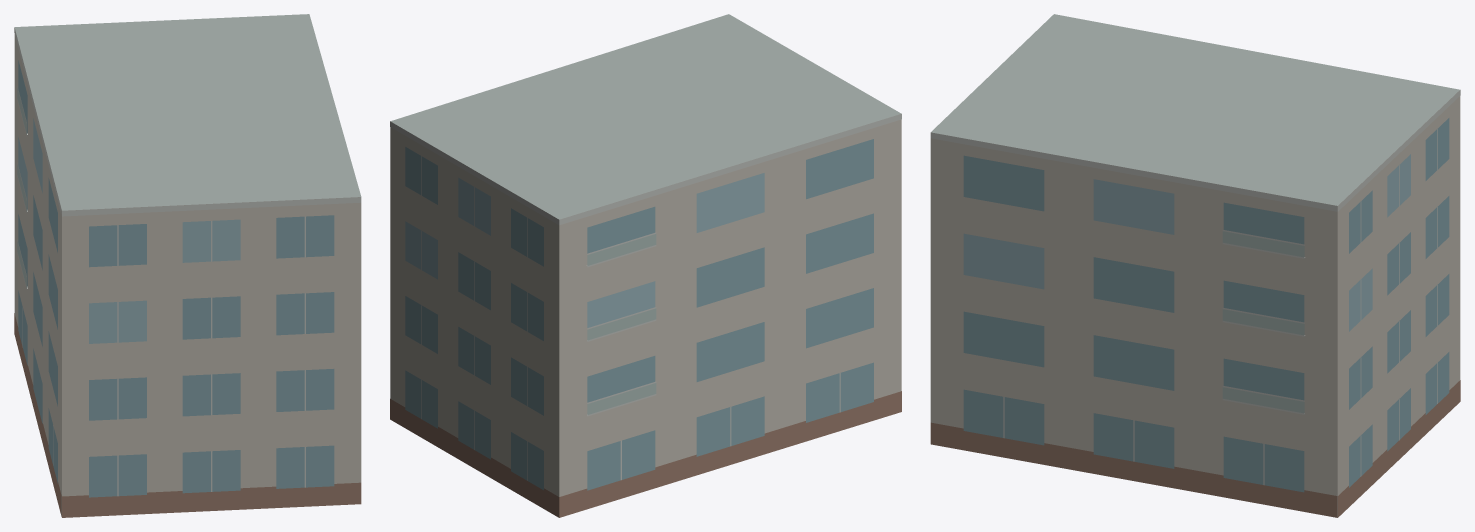
The model's file is survey-upis-32528289.glb.
3 renders of one model, left to right at view 1: azimuth 30°, elevation 25°; view 2: azimuth 150°, elevation 25°; view 3: azimuth 270°, elevation 25°, orthographic. The views are drawn at different scales.
Visible parts, largest first — view 1: survey-upis-32528289.tmp; view 2: survey-upis-32528289.tmp; view 3: survey-upis-32528289.tmp.
Part boxes in pixels (x1,y1,x2,y2): survey-upis-32528289.tmp: [14, 14, 361, 517]; survey-upis-32528289.tmp: [390, 14, 901, 517]; survey-upis-32528289.tmp: [930, 14, 1460, 517].
Bounding box in the file's own units: 17.03 × 12.9 × 19.86.
